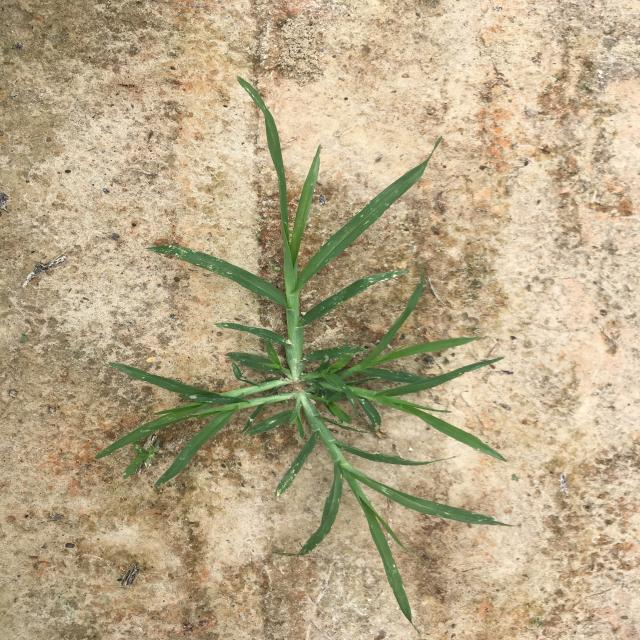Goosegrass: (95, 76, 508, 625)
